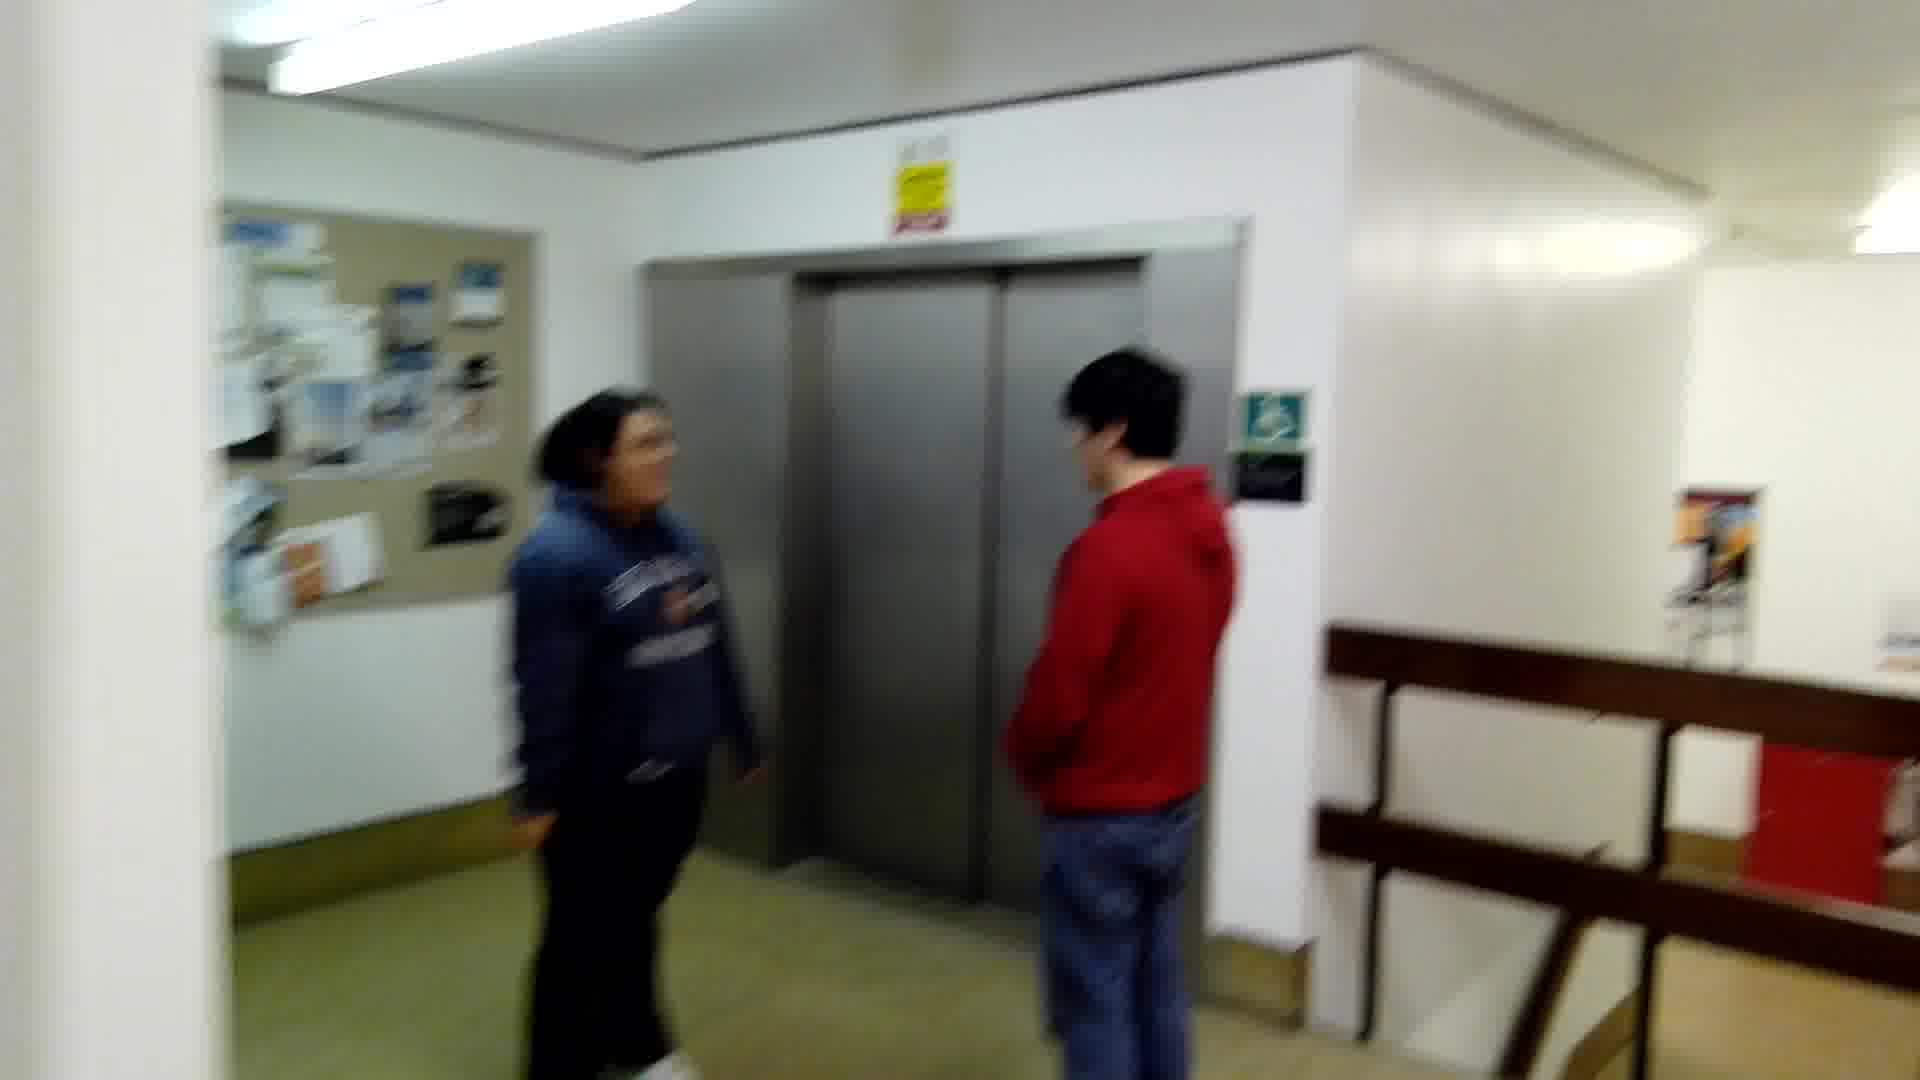Person: (486, 383, 757, 1073), (1009, 345, 1254, 1080)
